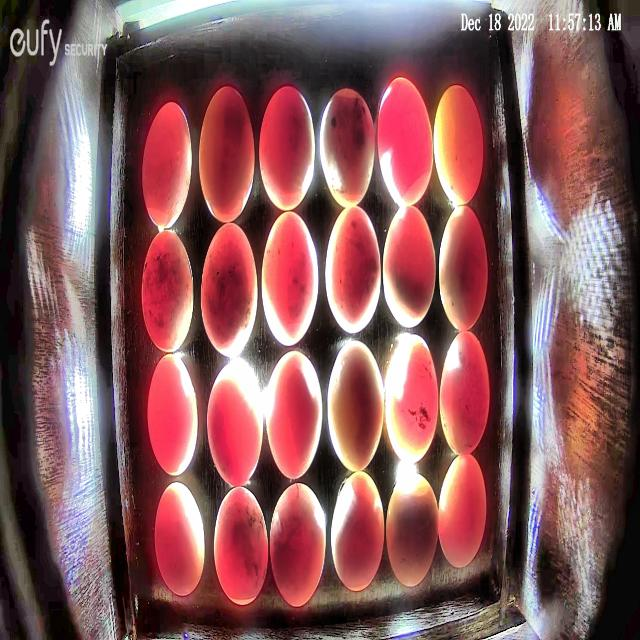FE: (198, 84, 256, 222), (200, 222, 258, 359), (261, 210, 319, 346), (324, 204, 382, 333), (207, 358, 264, 489), (265, 351, 323, 479), (328, 340, 384, 472), (377, 76, 433, 207), (269, 483, 327, 607), (259, 85, 315, 212), (319, 86, 375, 208), (382, 204, 437, 328), (142, 99, 194, 229), (386, 334, 438, 464), (214, 484, 268, 607), (331, 469, 385, 591), (146, 352, 198, 478), (438, 329, 489, 456), (142, 230, 194, 354), (438, 206, 488, 331), (433, 84, 483, 207), (386, 471, 438, 588), (154, 482, 206, 596), (438, 452, 487, 568)
